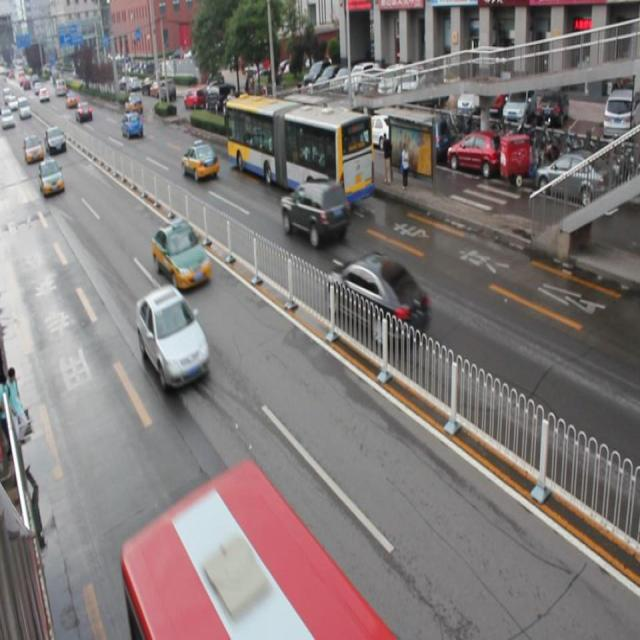car: (325, 256, 428, 346), (136, 284, 210, 389), (281, 178, 349, 247), (151, 217, 212, 288), (180, 140, 218, 182), (40, 158, 64, 196)
van: (119, 463, 402, 640), (225, 89, 372, 208)
